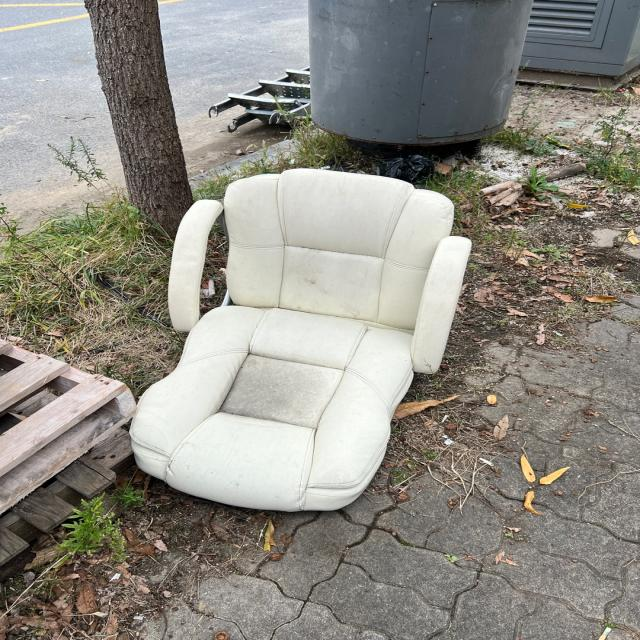Large Waste Items: (144, 147, 471, 520)
